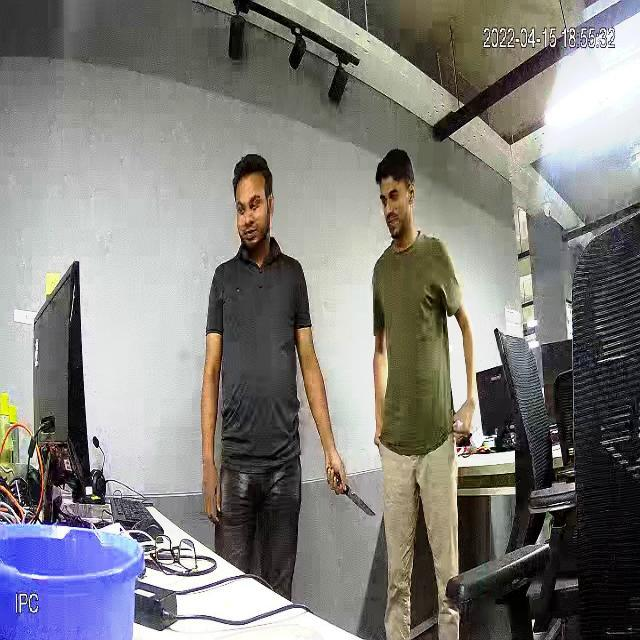Knife: (328, 462, 392, 521)
